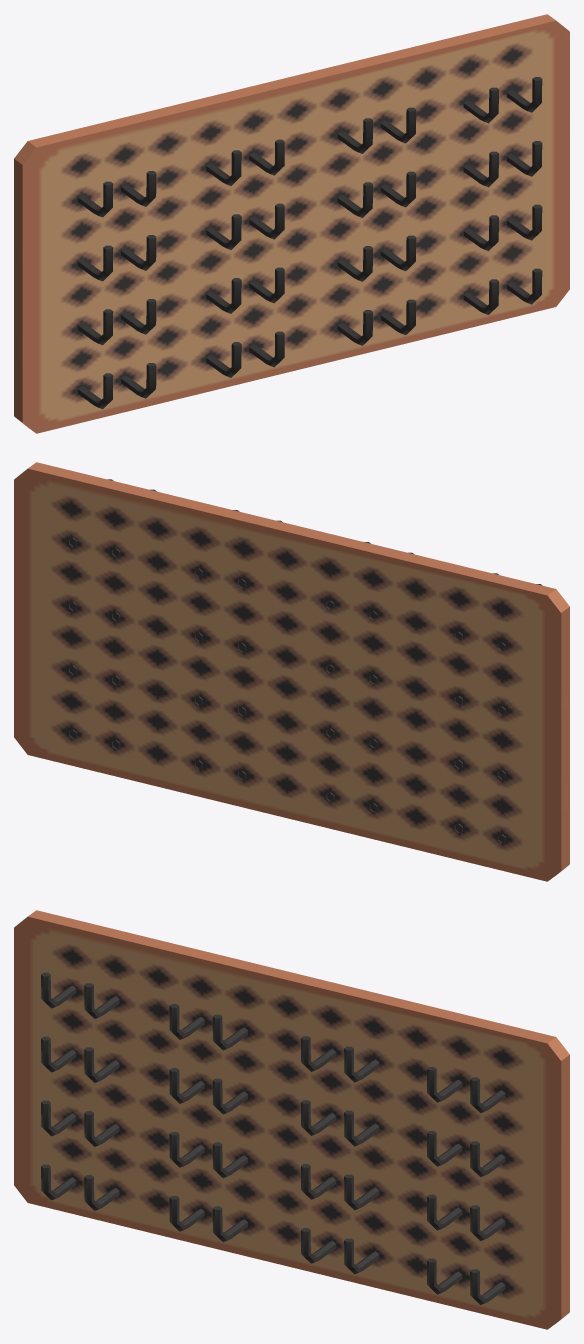
The model's file is Tool_wall.fbx.
The picture shows the model from 3 angles, top to bottom: view 1: azimuth 30°, elevation 25°; view 2: azimuth 150°, elevation 25°; view 3: azimuth 330°, elevation 25°; orthographic projection.
Parts seen in each view (by area): view 1: Tool_wall; view 2: Tool_wall; view 3: Tool_wall.
Boxes of the visible parts, box(x1,y1,x2,y2) form: Tool_wall: box(14, 14, 569, 433); Tool_wall: box(14, 462, 569, 881); Tool_wall: box(14, 910, 569, 1329).
Bounding box in the file's own units: 120 × 14.78 × 60.
1 material, 1 textured.
